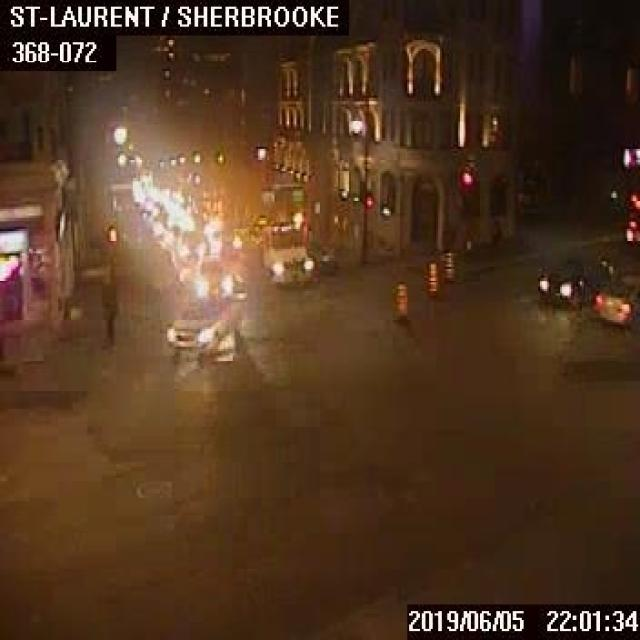bus: (622, 193, 638, 249)
construction: (391, 282, 408, 320), (424, 260, 437, 298), (440, 251, 452, 282)
vehicle: (221, 220, 313, 284), (163, 294, 236, 352), (538, 258, 612, 304), (592, 271, 638, 325), (183, 252, 230, 301)
